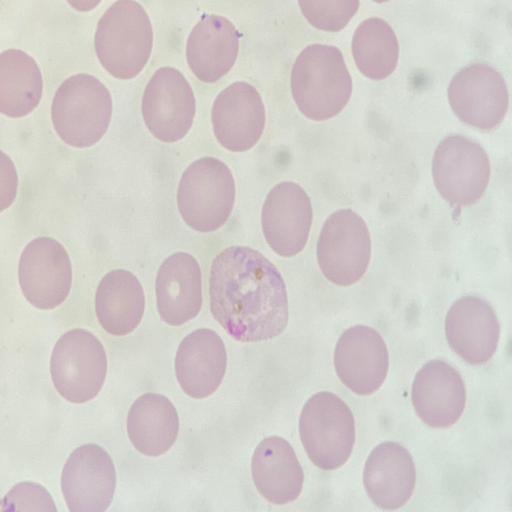Infected: (209, 245, 288, 340)
Uninfected: (290, 44, 352, 119), (94, 1, 154, 78), (51, 73, 112, 147), (316, 210, 374, 287), (298, 391, 355, 468), (176, 157, 234, 232), (49, 328, 107, 402), (432, 135, 489, 210), (141, 66, 196, 142), (260, 181, 313, 258), (17, 237, 72, 311), (332, 325, 389, 396), (448, 63, 507, 129), (211, 82, 265, 152), (443, 296, 498, 364), (185, 13, 240, 81), (59, 444, 116, 509), (410, 360, 465, 427), (154, 253, 204, 325), (362, 442, 415, 509), (250, 437, 303, 504), (174, 329, 225, 398), (94, 269, 145, 336), (125, 393, 179, 456), (351, 18, 399, 80)
